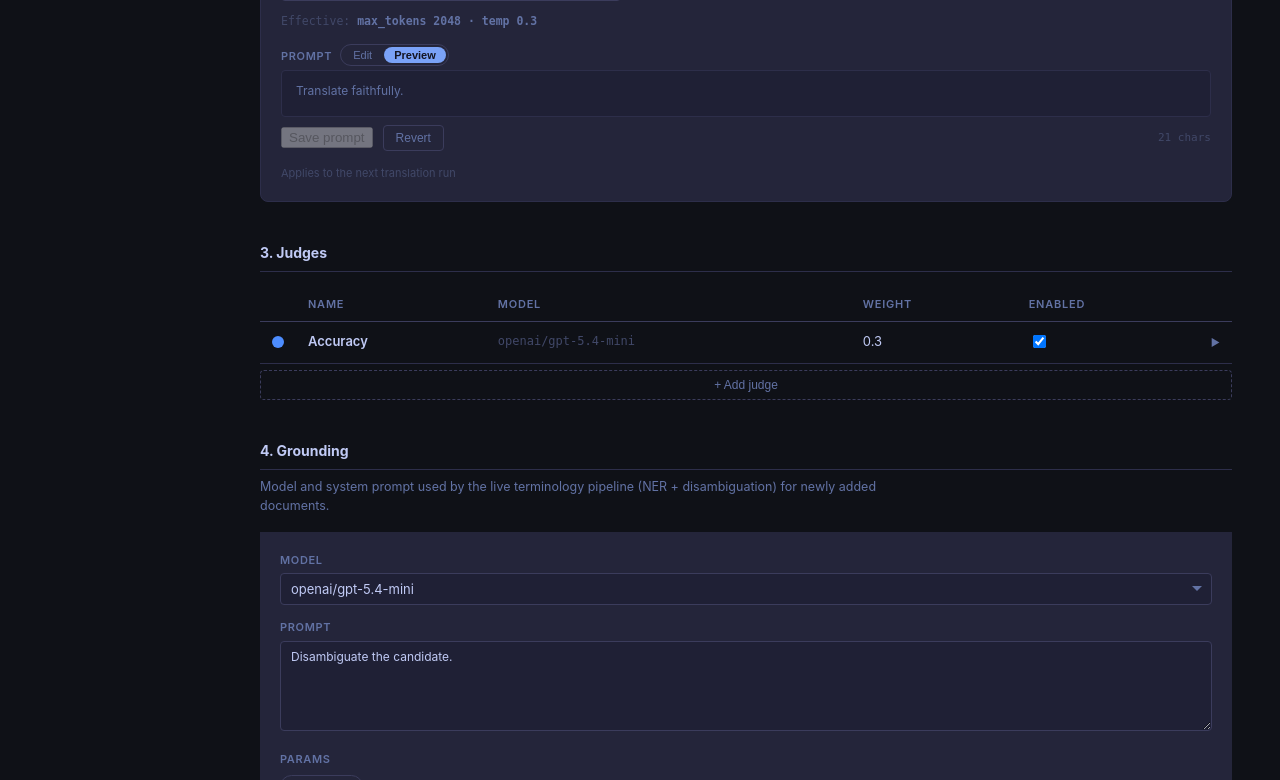
Test case: SettingsTab Add Evaluator modal › shows inline error on server rejection
(page scrolled)
Click the button "+ Add judge" at (746, 385), box [260, 370, 1232, 400]
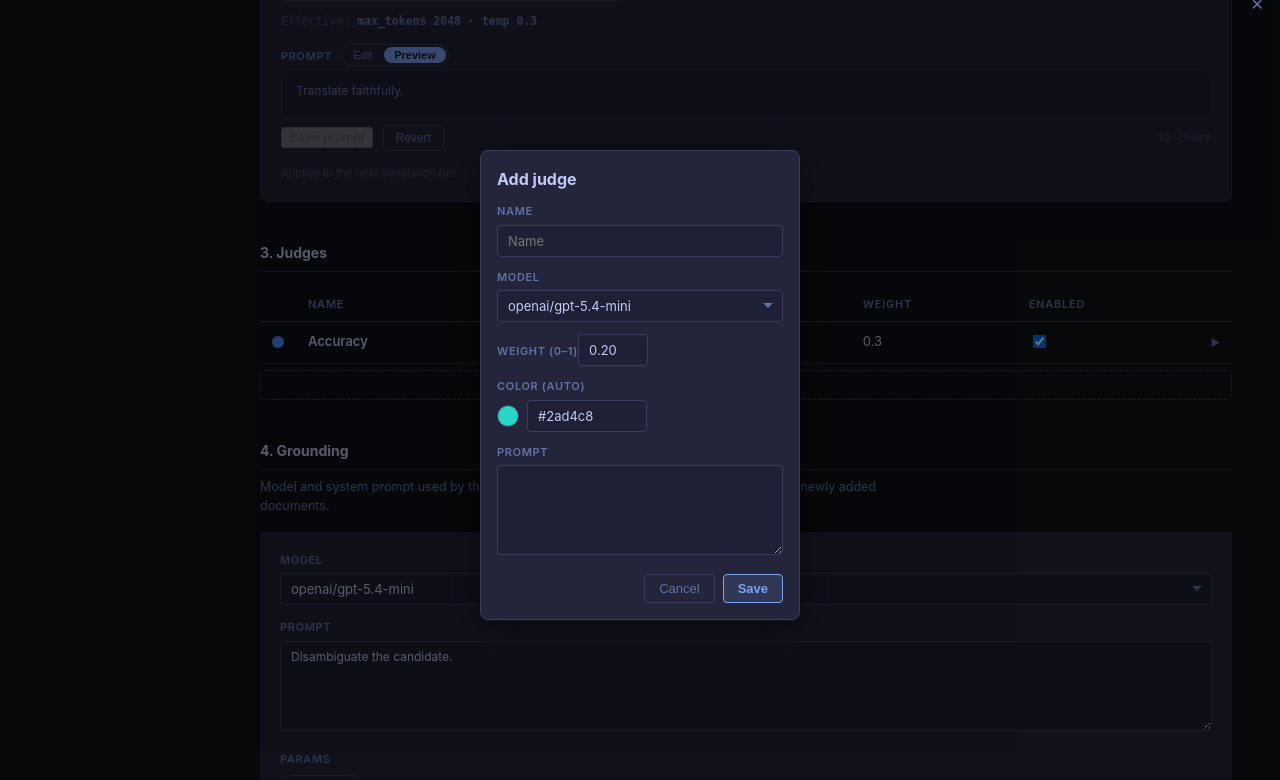
Type "New eval" into the field with placeholder "Name" at (640, 241), box [497, 225, 783, 257]
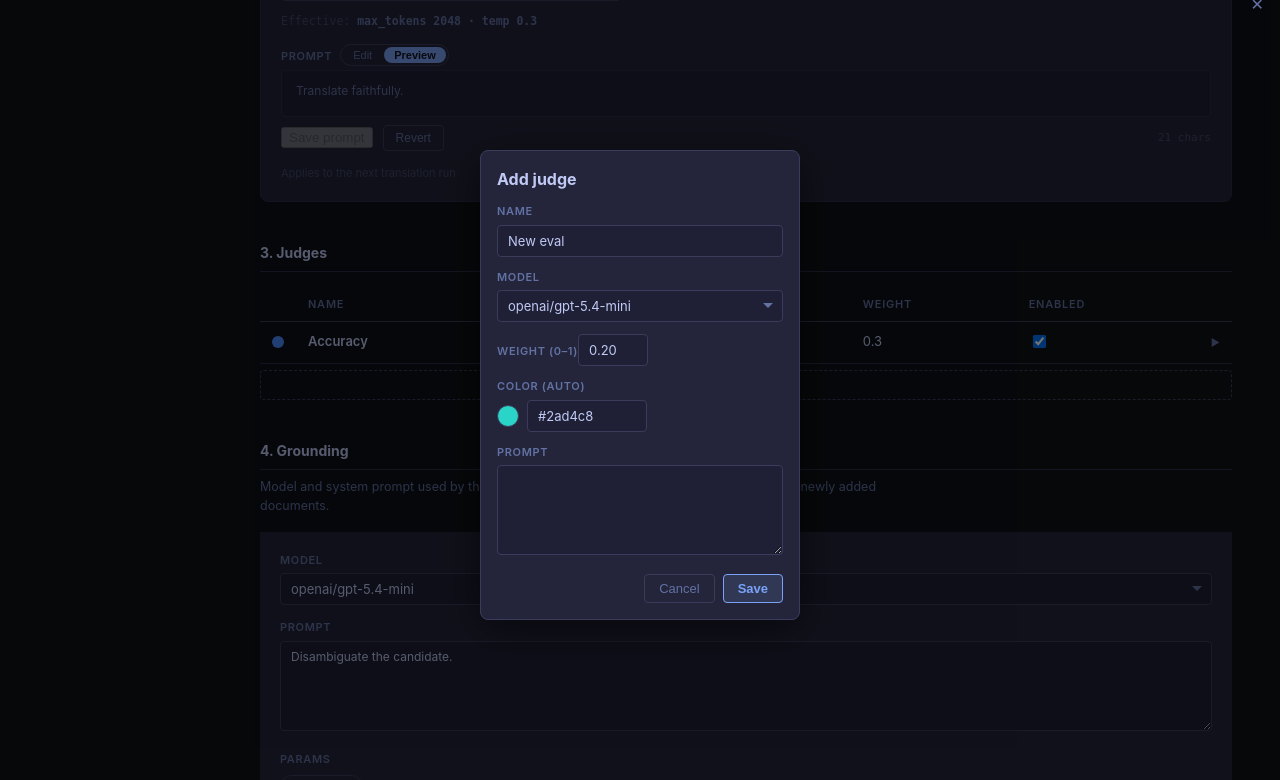
Type "Evaluate this." into the text box with test id "add-evaluator-prompt" at (640, 510), box [497, 465, 783, 555]
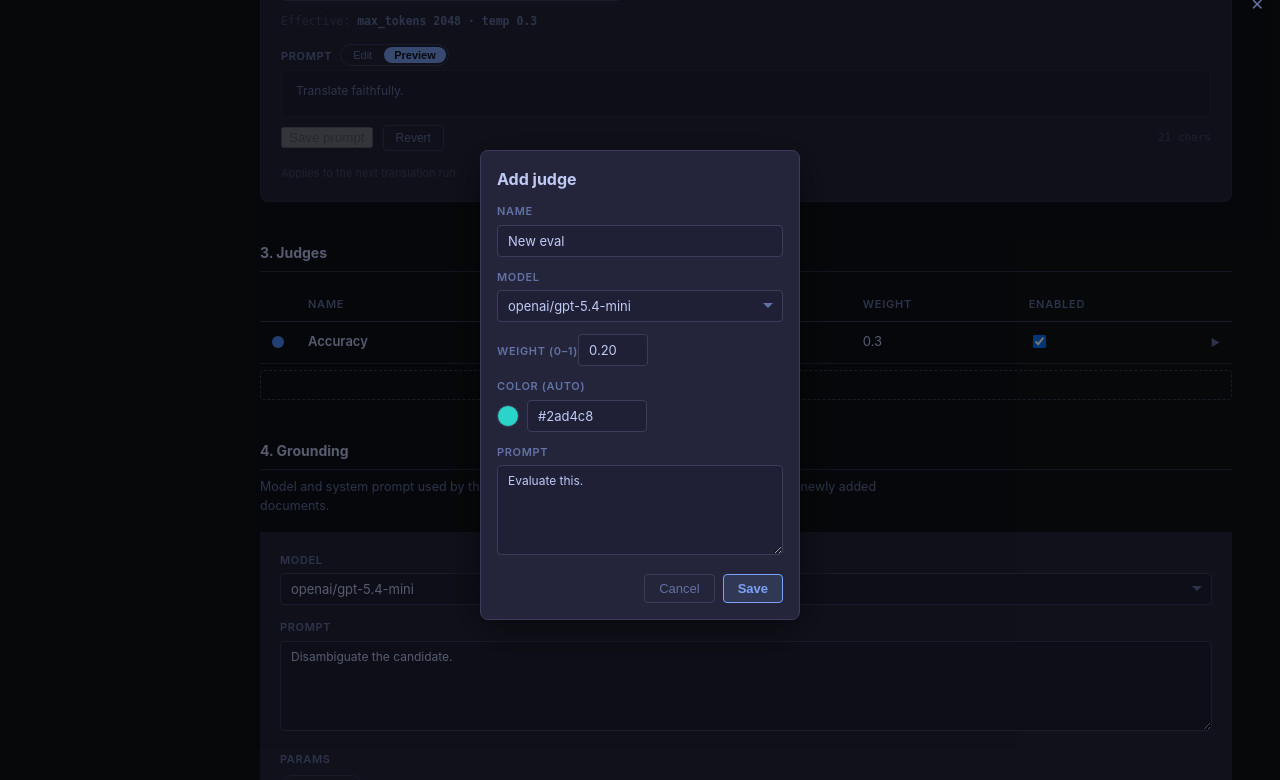
Click the button "Save" at (753, 588), box [723, 574, 783, 603]
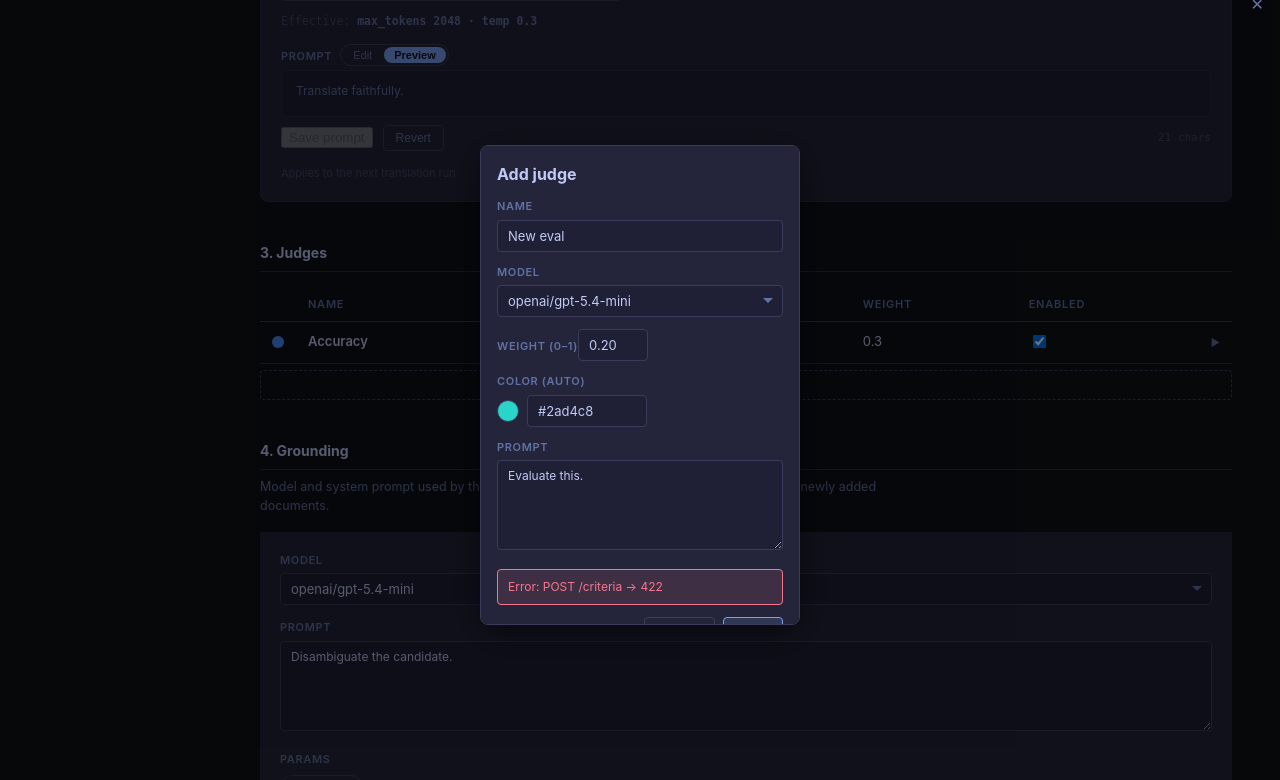
Now the text with test id "add-evaluator-error" shows "422", box [508, 578, 663, 594]
